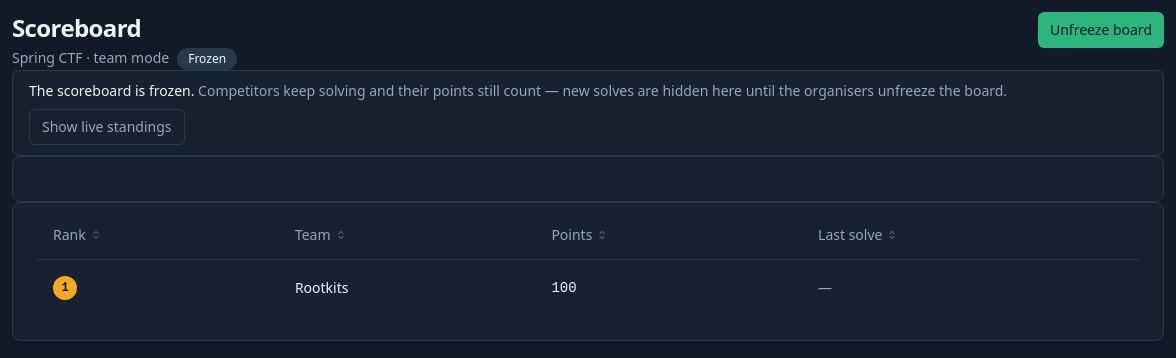
ScoreboardPage during a freeze › staff start on the frozen board and can switch to live standings
Expected: the text "100" is shown, x1=535 y1=260 x2=802 y2=316
Click the button "Show live standings": (107, 127) x1=29 y1=109 x2=184 y2=145
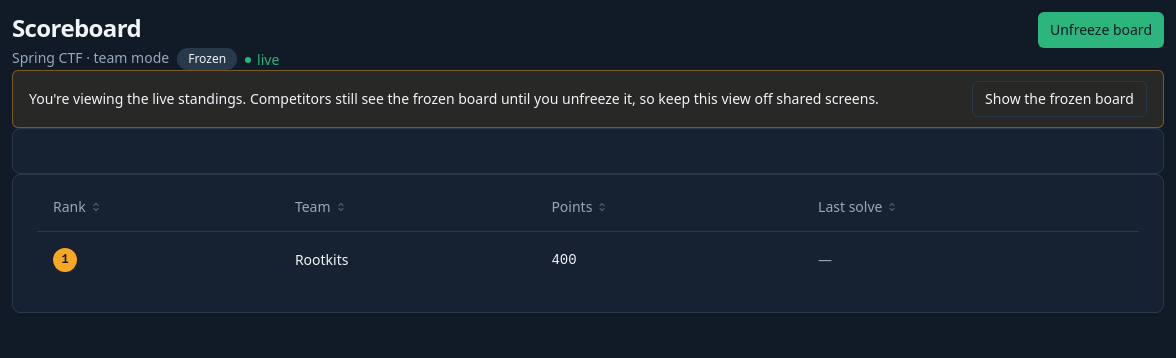
Expected: the text "Frozen" is shown, x1=177 y1=48 x2=237 y2=70
Expected: the text "You're viewing the live standings." is shown, x1=29 y1=89 x2=246 y2=108
Expected: the text "400" is shown, x1=535 y1=232 x2=802 y2=288
Click the button "Show the frozen board": (1060, 99) x1=972 y1=81 x2=1147 y2=117
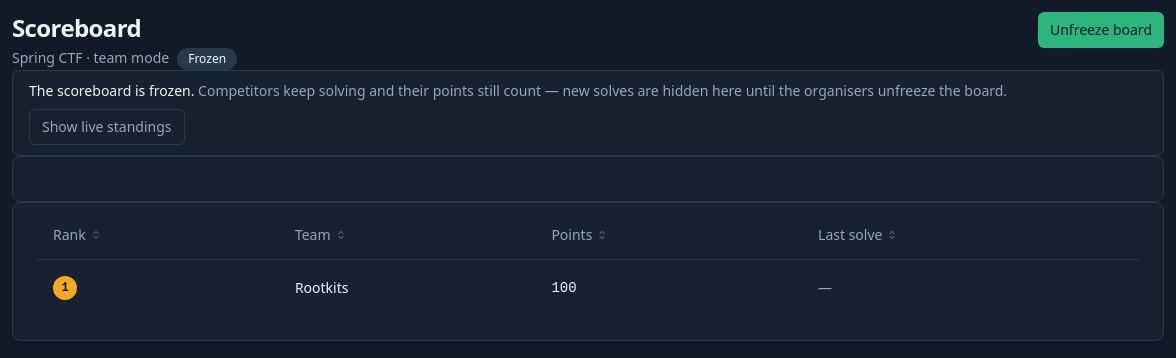
Expected: the text "The scoreboard is frozen." is shown, x1=29 y1=81 x2=194 y2=100
